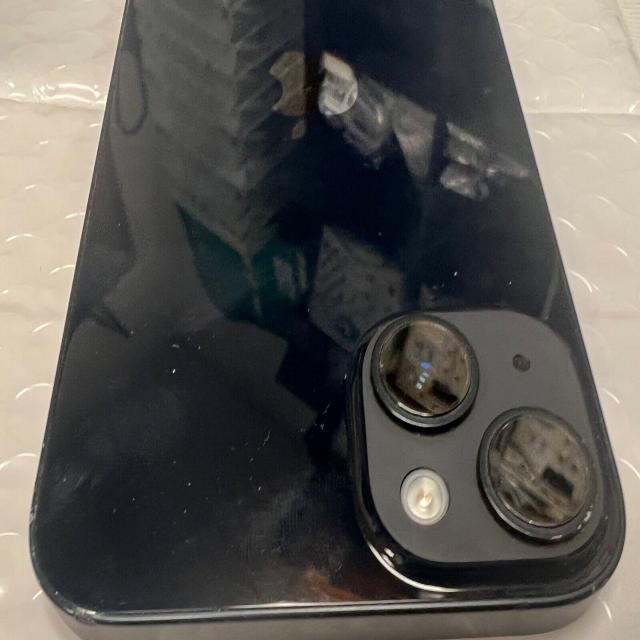Dents: (53, 606, 108, 633), (19, 498, 42, 538)
